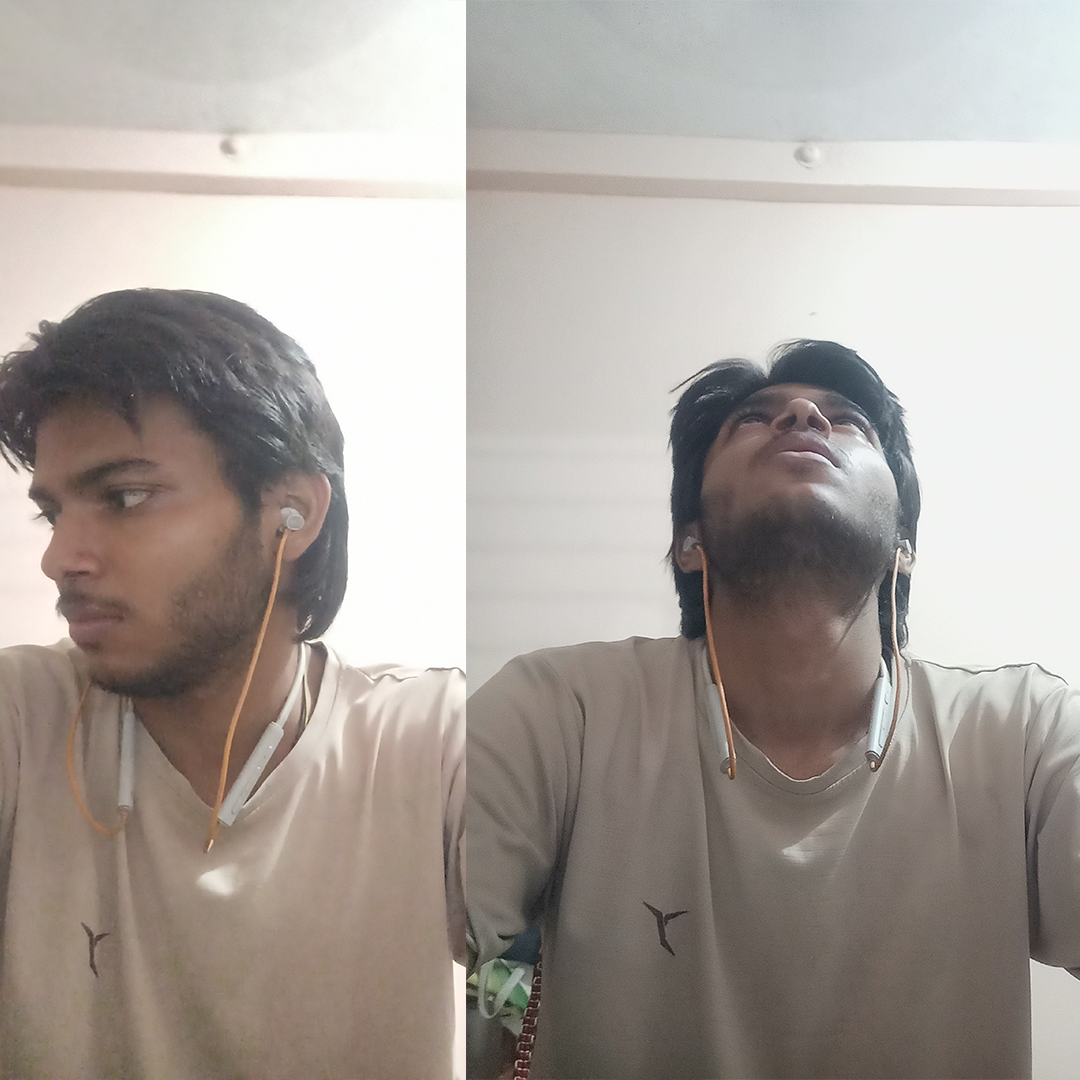distracted: (12, 245, 378, 742), (566, 308, 968, 684)
